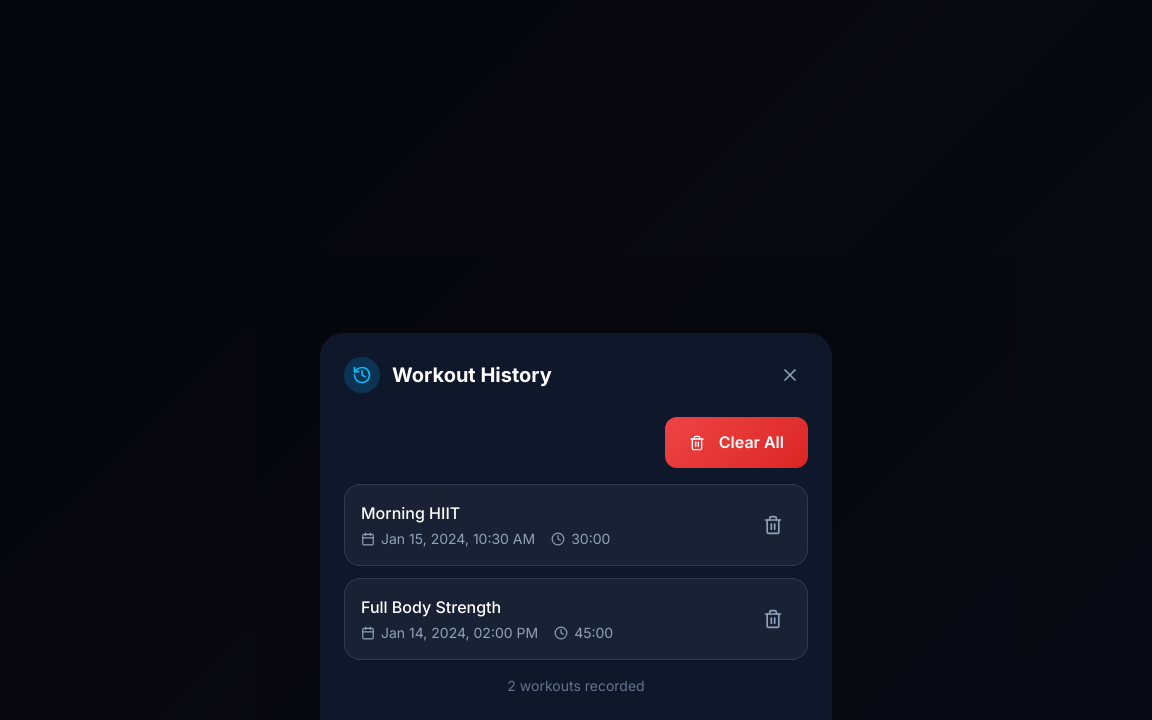
it: HistoryView › shows delete confirmation dialog when delete button is clicked
Click the button named "delete morning hiit" at (773, 525), box [755,507,791,543]
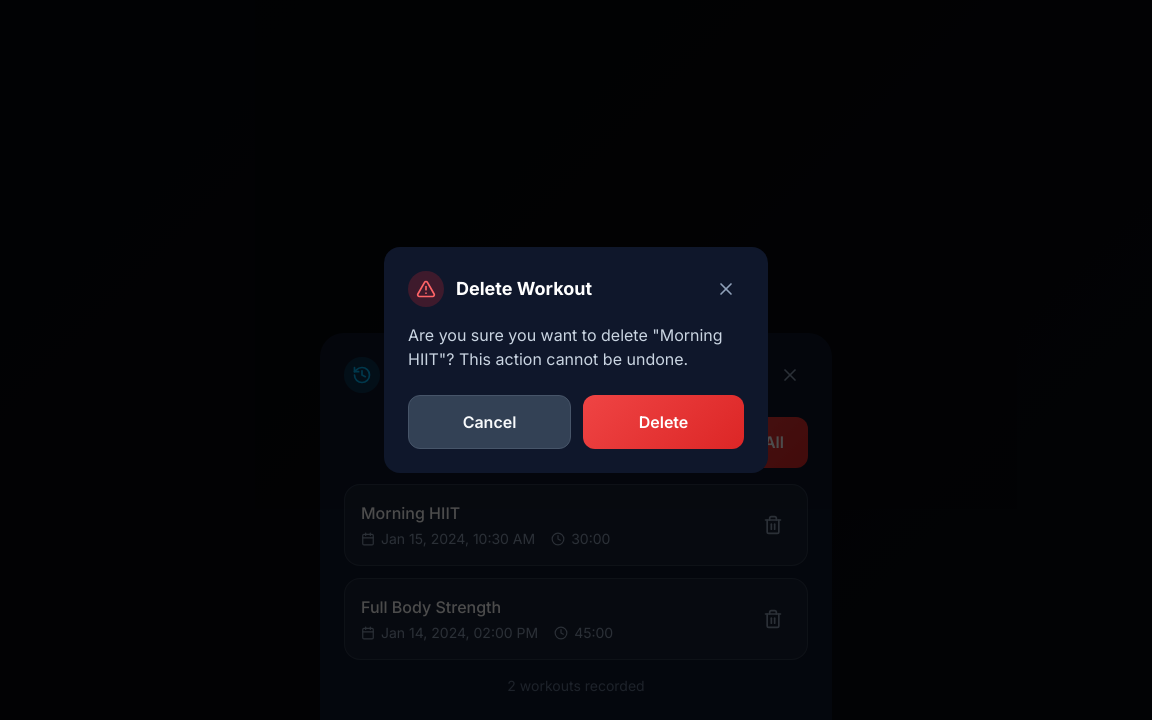
Check: the heading "Delete Workout" is shown, box [456,275,592,303]
Check: the text "Are you sure you want to delete \"Morning HIIT\"" is shown, box [408,325,723,369]
